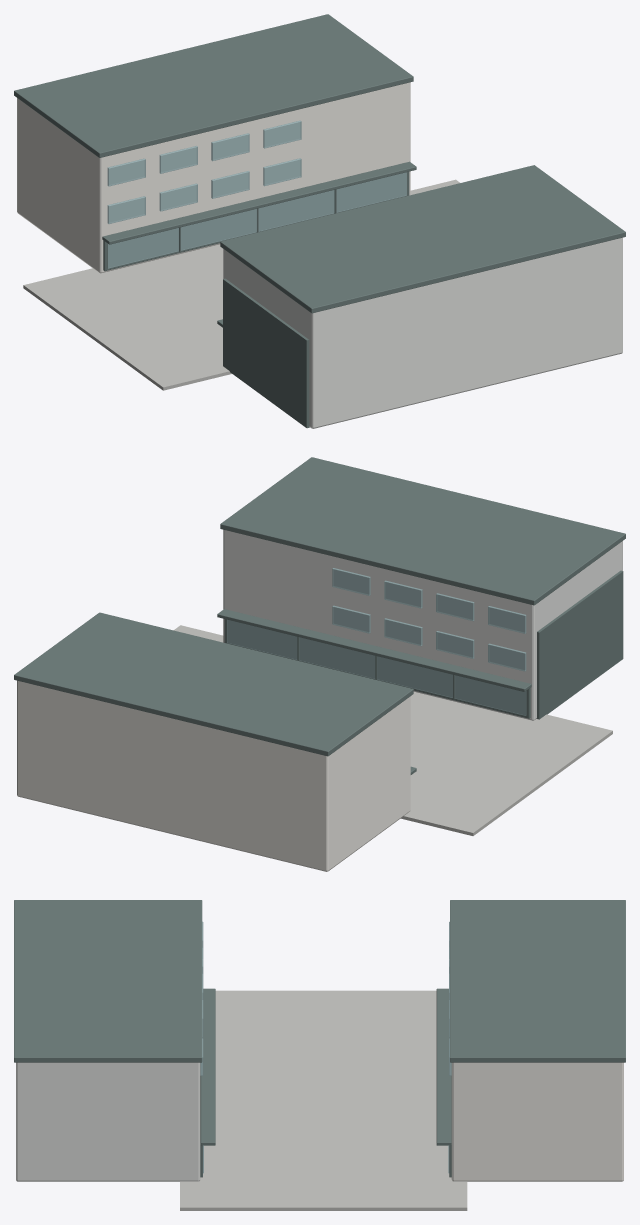
Rendered from xingfuli-west-massing-v2.glb.
3 views of the same model, one above another, from view 1: azimuth 30°, elevation 25°; view 2: azimuth 150°, elevation 25°; view 3: azimuth 270°, elevation 25° (orthographic). The views are drawn at different scales.
Visible parts, largest first — view 1: xingfuli-west-massing-v2; view 2: xingfuli-west-massing-v2; view 3: xingfuli-west-massing-v2.
Boxes of the visible parts, left/top/right/bottom form: xingfuli-west-massing-v2: left=14, top=14, right=625, bottom=428; xingfuli-west-massing-v2: left=14, top=457, right=625, bottom=871; xingfuli-west-massing-v2: left=14, top=900, right=625, bottom=1210.
Bounding box in the file's own units: 25 × 6.89 × 29.83.
